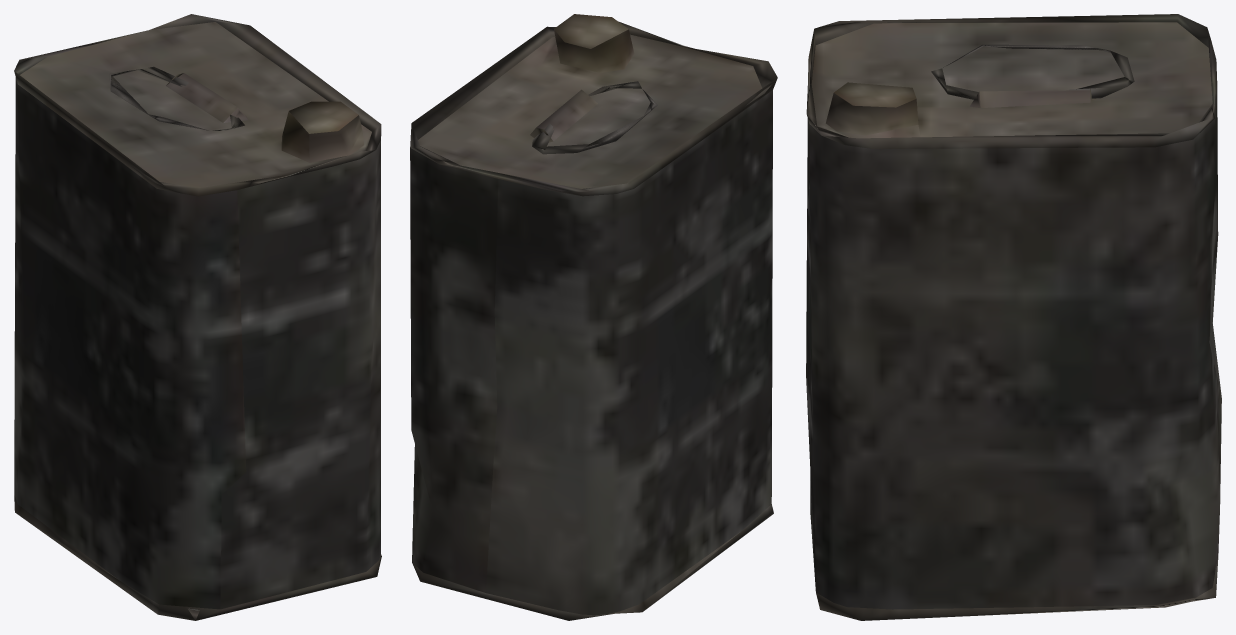
File: oilCan_lo.glb
The picture shows the model from 3 angles, left to right: view 1: azimuth 30°, elevation 25°; view 2: azimuth 150°, elevation 25°; view 3: azimuth 270°, elevation 25°; orthographic projection. The views are drawn at different scales.
Visible parts, largest first — view 1: oil_tin, oil_tin_handle; view 2: oil_tin, oil_tin_handle; view 3: oil_tin, oil_tin_handle.
Boxes of the visible parts, <box> form: oil_tin: <box>14,14,381,620</box>; oil_tin_handle: <box>109,66,244,130</box>; oil_tin: <box>410,14,777,620</box>; oil_tin_handle: <box>532,81,657,154</box>; oil_tin: <box>806,14,1221,620</box>; oil_tin_handle: <box>931,44,1134,99</box>.
Size of the model in its own units: 0.1113 by 0.2037 by 0.1529.
Materials: 1 (1 with a texture image).
